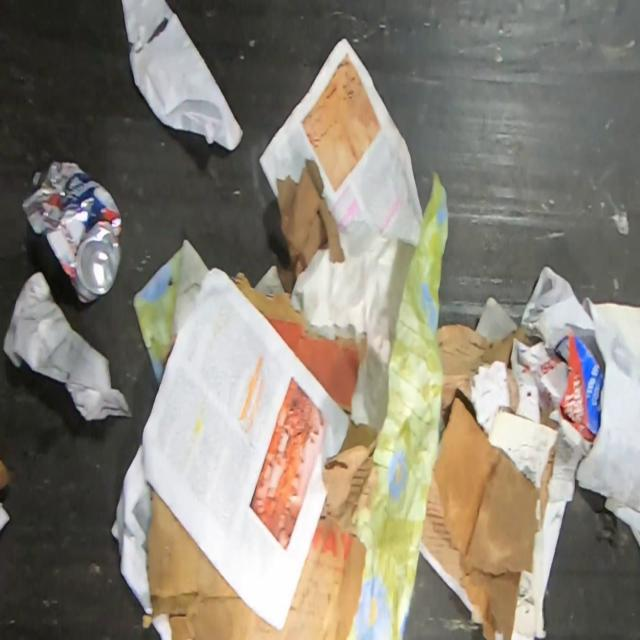cardboard: (144, 419, 381, 639), (434, 396, 558, 640), (230, 272, 368, 419), (437, 322, 545, 435), (422, 468, 465, 588), (538, 406, 562, 432)
metal: (22, 158, 123, 307)
